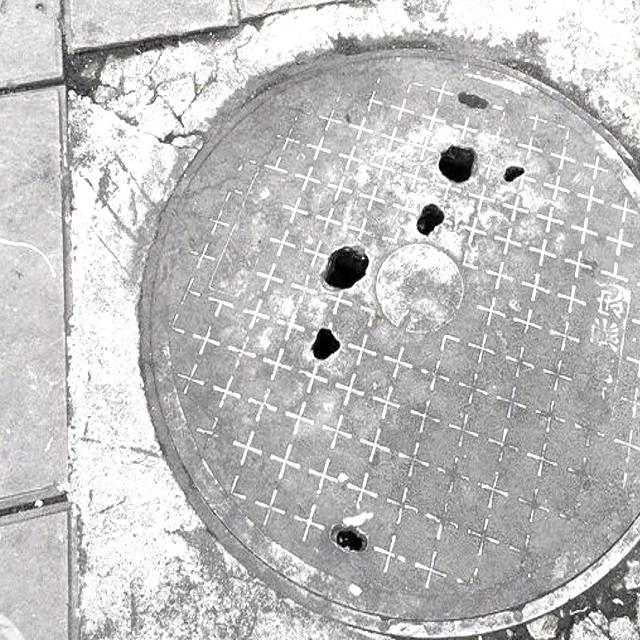circle: (43, 0, 640, 640)
